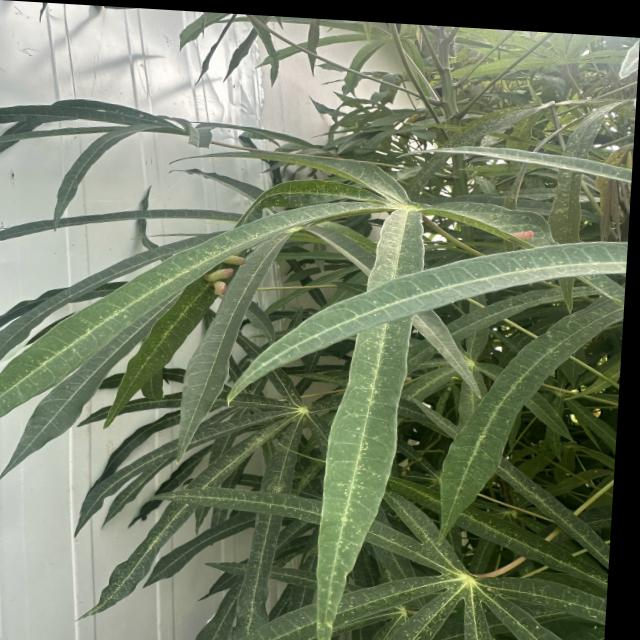Mosca: (201, 247, 247, 300), (506, 227, 542, 251)
